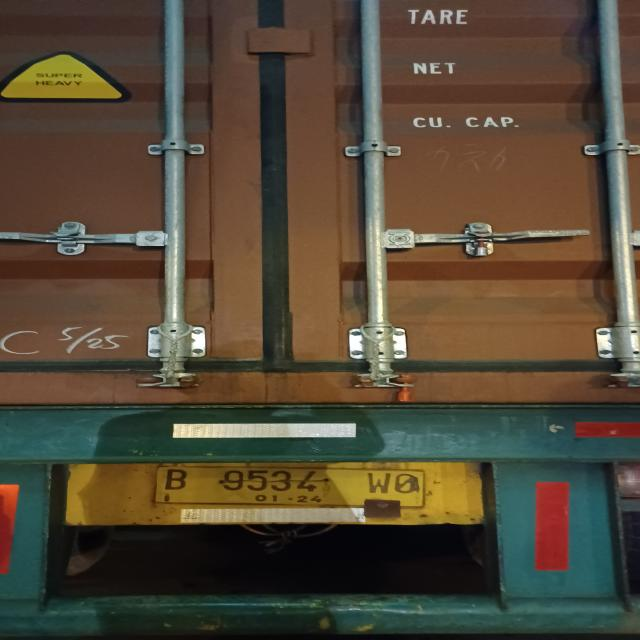seal: (464, 230, 502, 258), (392, 374, 417, 402)
